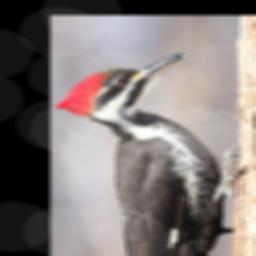Woodpecker: (55, 48, 243, 256)
